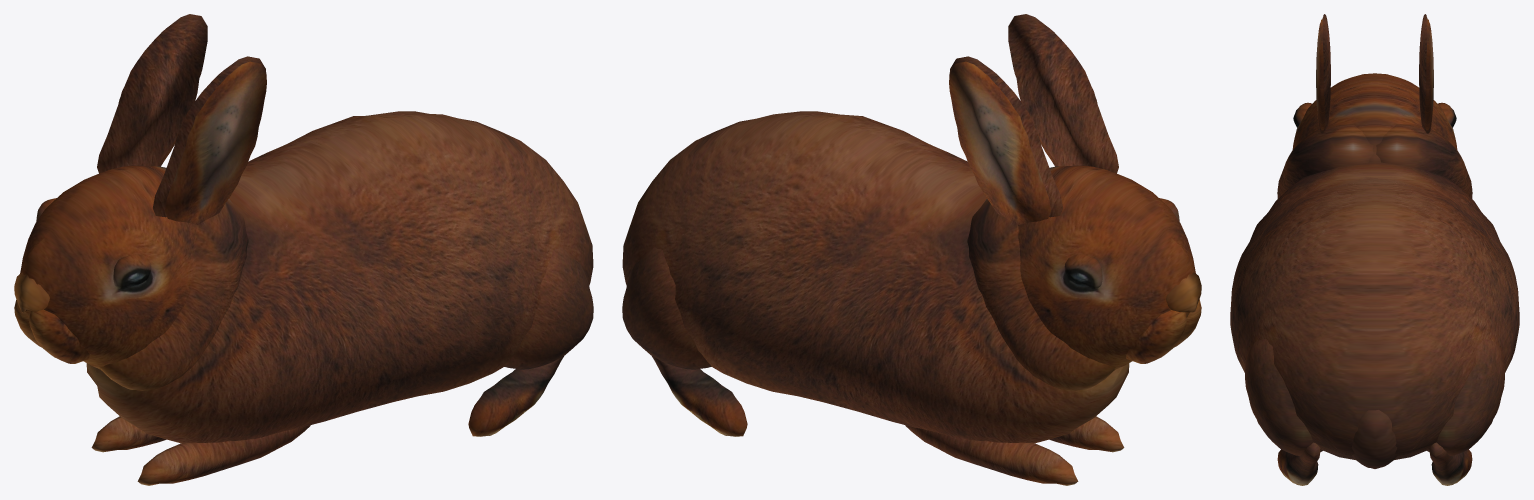
File: conejo.fbx
3 views of the same model, side by side, from view 1: azimuth 30°, elevation 25°; view 2: azimuth 150°, elevation 25°; view 3: azimuth 270°, elevation 25° (orthographic). The views are drawn at different scales.
Parts seen in each view (by area): view 1: model; view 2: model; view 3: model.
Part boxes in pixels (x1=…): model: x1=14, y1=14, x2=593, y2=485; model: x1=622, y1=14, x2=1201, y2=485; model: x1=1230, y1=14, x2=1519, y2=485.
Bounding box in the file's own units: 222 × 157 × 113.
Materials: 1 (1 with a texture image).
